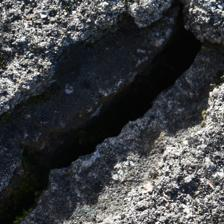Crack: (4, 12, 199, 206)
